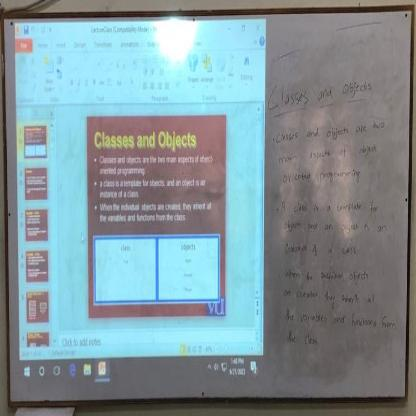Handwritten text: (269, 104, 391, 149), (272, 131, 384, 169), (267, 77, 385, 112), (276, 283, 382, 308), (283, 309, 398, 332), (279, 161, 365, 190), (278, 195, 382, 218), (281, 215, 391, 236), (279, 263, 373, 284), (281, 238, 358, 262), (283, 330, 320, 348)
Whiteboard: (3, 12, 413, 404)
